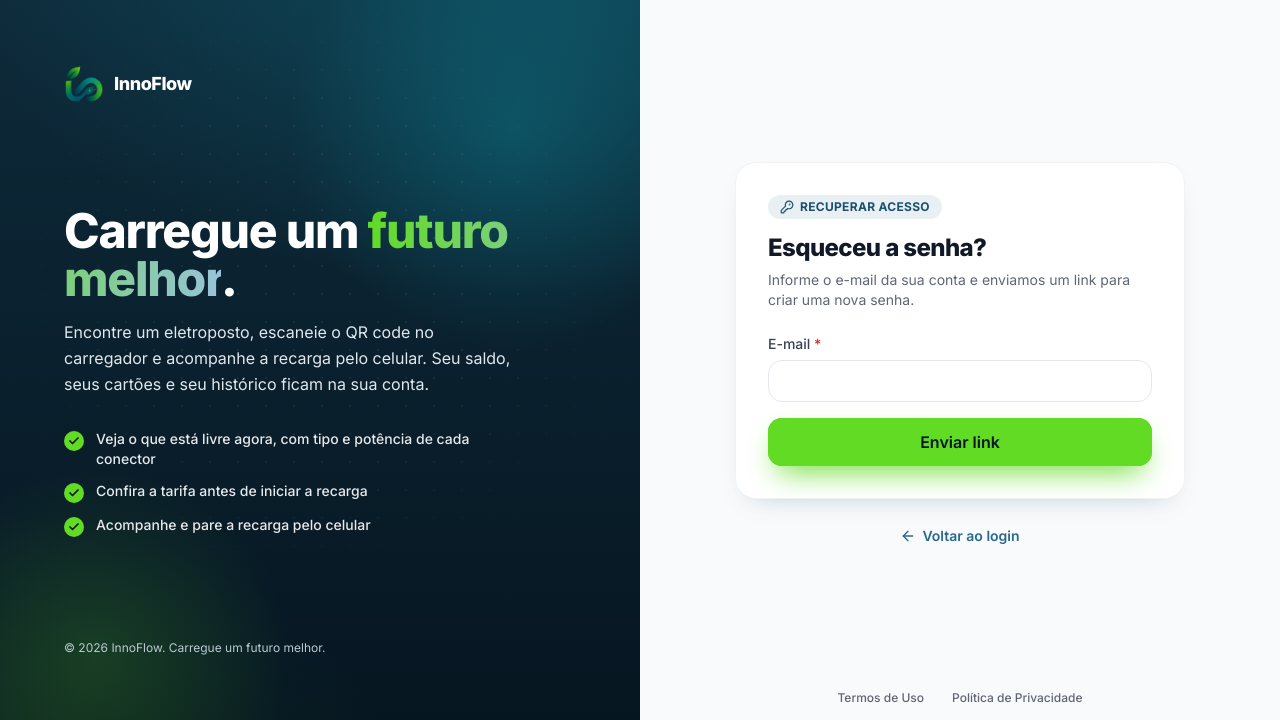
Test case: ForgotPassword › 202: estado de sucesso NEUTRO (nunca confirma nem nega a conta), foco no título, voltar ao login presente
Type "alguem@example.com" into the field labelled "E-mail *" at {"x": 960, "y": 380}, box [768,360,1152,402]
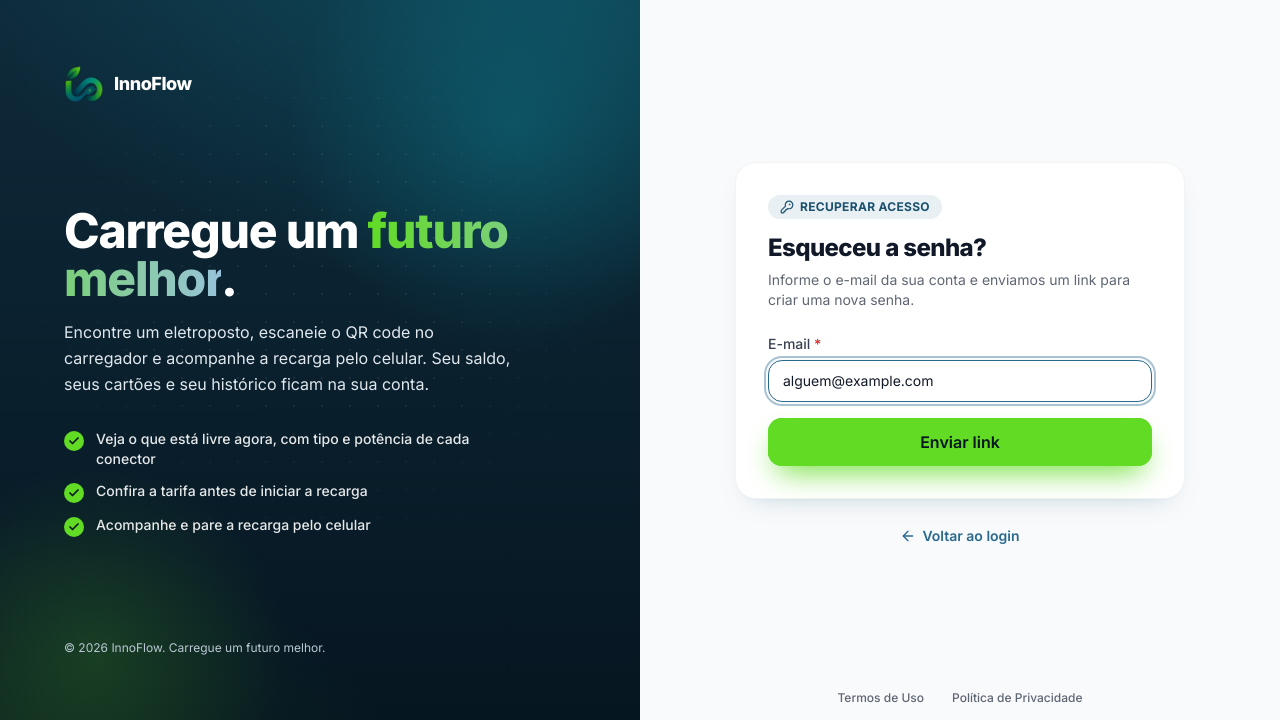
Click the button "Enviar link" at {"x": 960, "y": 442}, box [768,418,1152,466]
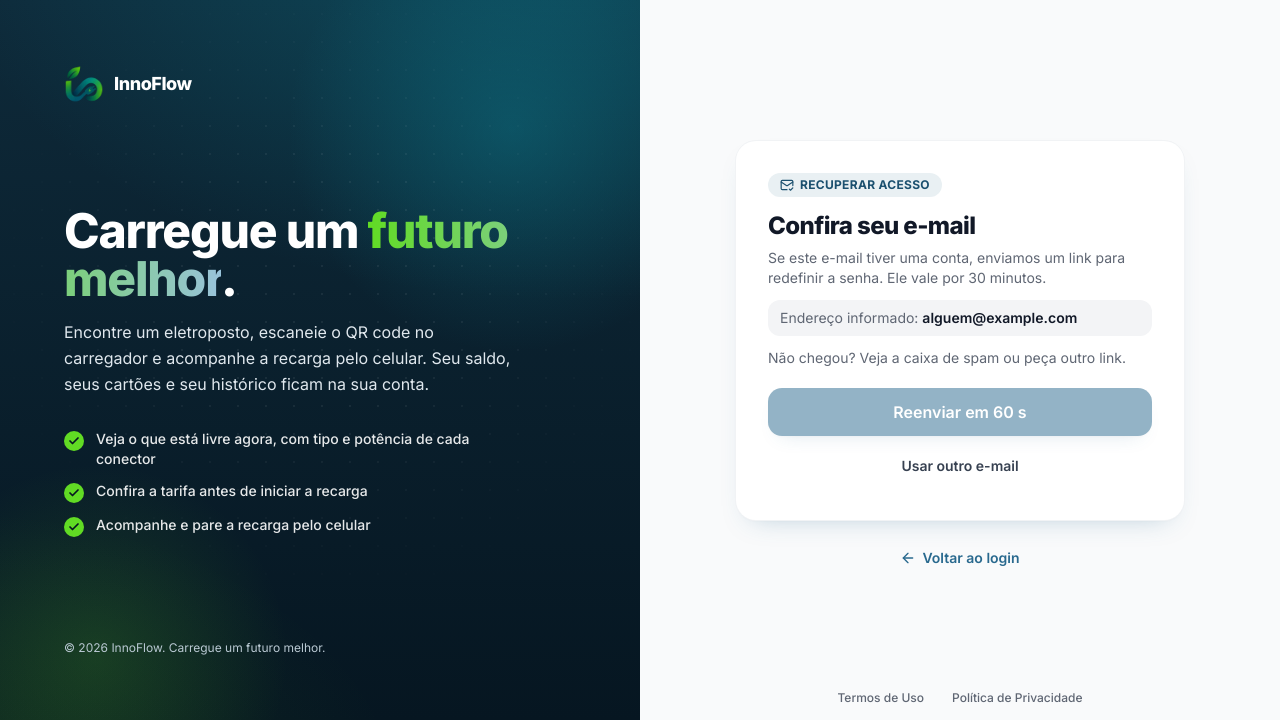
Now the text "Se este e-mail tiver uma conta, enviamos um link para redefinir a senha. Ele vale por 30 minutos." is shown, box [768,248,1125,286]
